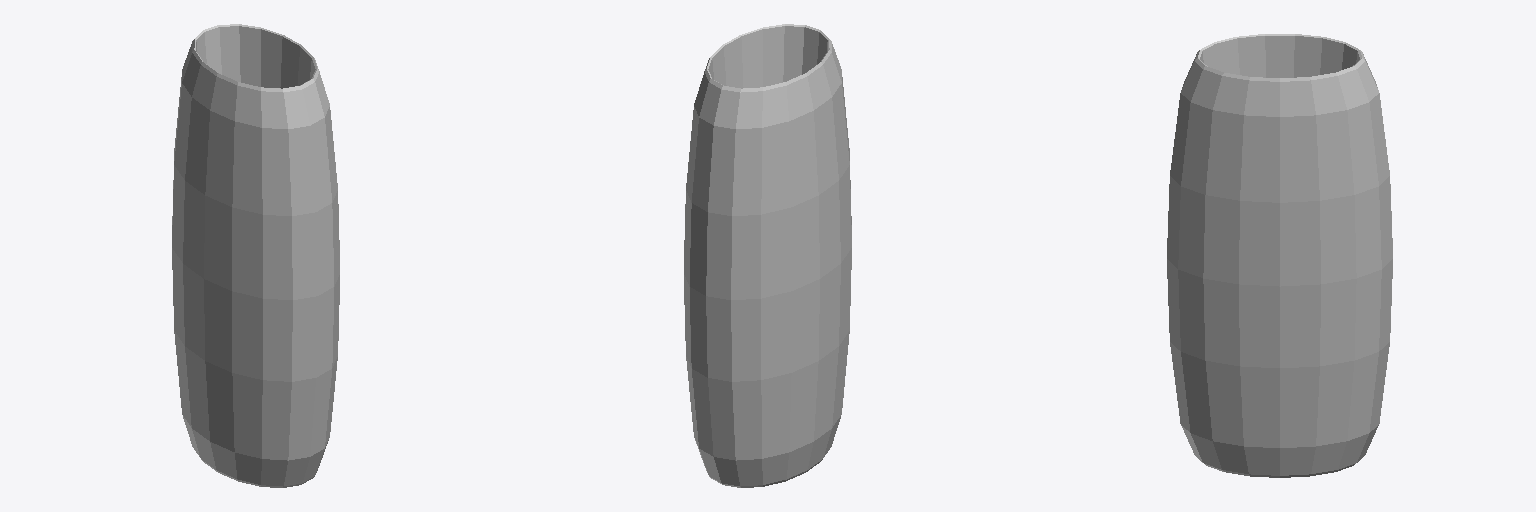
The model's file is heighliner.obj.
3 views of the same model, side by side, from view 1: azimuth 30°, elevation 25°; view 2: azimuth 150°, elevation 25°; view 3: azimuth 270°, elevation 25° (orthographic).
Parts seen in each view (by area): view 1: Torus.001; view 2: Torus.001; view 3: Torus.001.
Boxes of the visible parts, x1=… form: Torus.001: x1=172, y1=24, x2=339, y2=487; Torus.001: x1=684, y1=24, x2=851, y2=487; Torus.001: x1=1167, y1=34, x2=1392, y2=477.
Bounding box in the file's own units: 1.74 × 5.31 × 2.73.